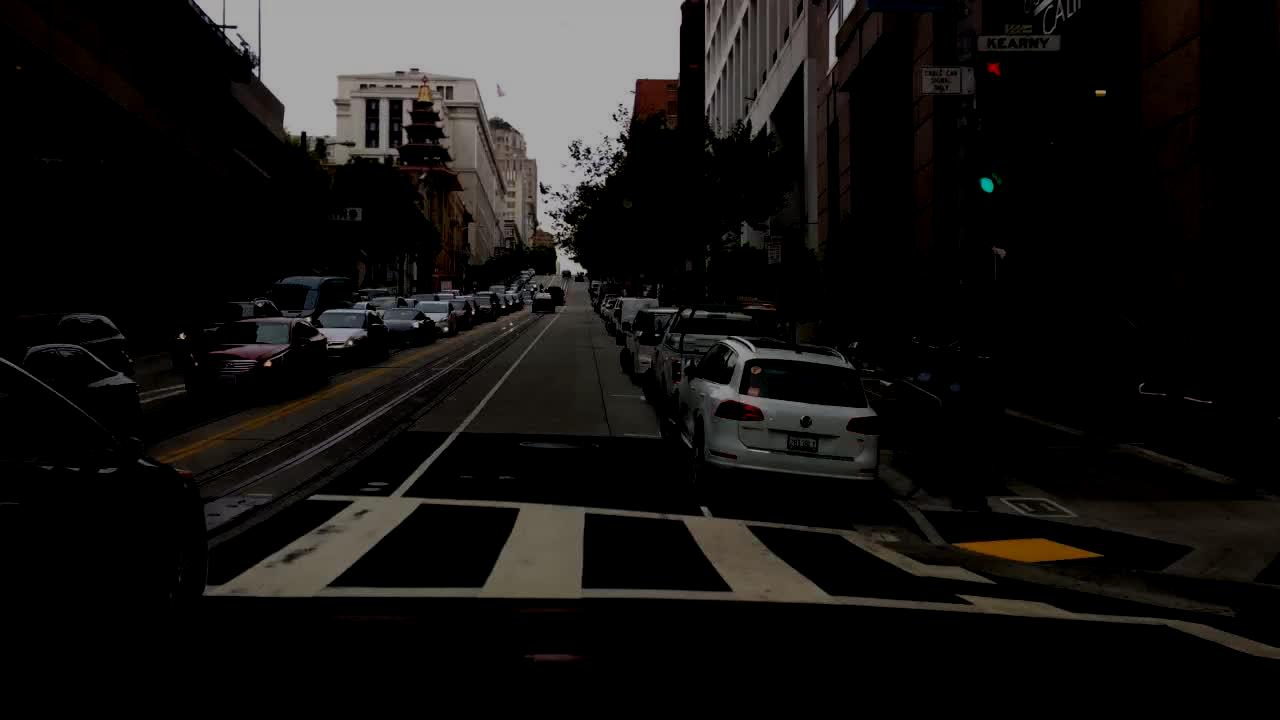Volkswagen: (798, 411, 813, 432)
